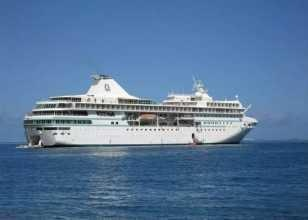youlun: (18, 74, 260, 151)
